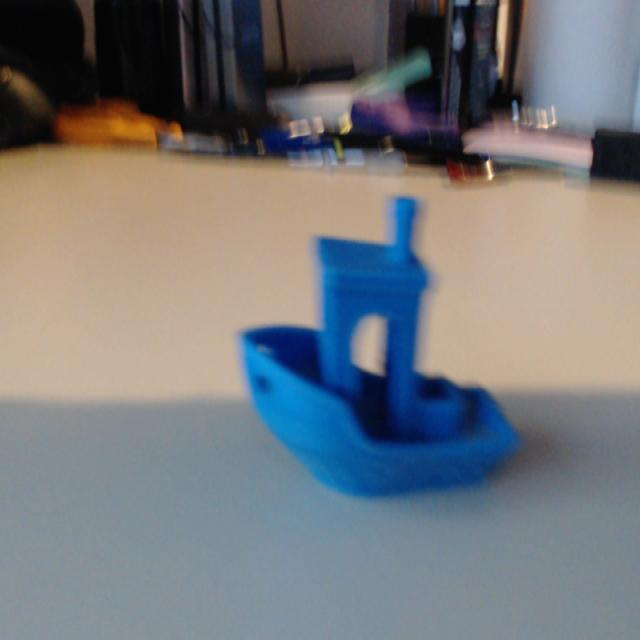benchy: (235, 192, 523, 500)
